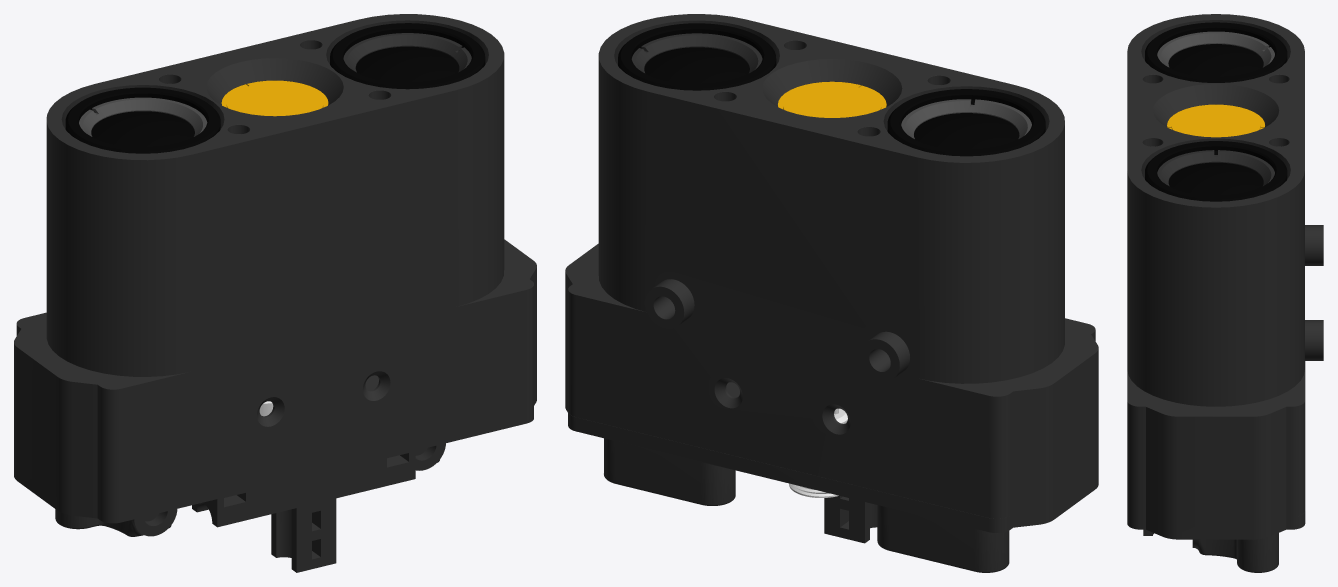
File: FFS_Camera.obj
3 renders of one model, left to right at view 1: azimuth 30°, elevation 25°; view 2: azimuth 150°, elevation 25°; view 3: azimuth 270°, elevation 25°, orthographic. The views are drawn at different scales.
Parts seen in each view (by area): view 1: mesh5, mesh9, mesh0, mesh3, mesh6, mesh8, mesh2, mesh7, mesh1; view 2: mesh5, mesh0, mesh3, mesh6, mesh1, mesh4, mesh8, mesh7, mesh2, mesh9; view 3: mesh5, mesh6, mesh3, mesh8, mesh0, mesh4, mesh2, mesh7.
Part boxes in pixels (<box>): mesh5: <box>14,14,536,509</box>; mesh9: <box>192,450,415,572</box>; mesh0: <box>14,375,536,523</box>; mesh3: <box>65,87,220,153</box>; mesh6: <box>330,23,485,89</box>; mesh8: <box>221,80,328,116</box>; mesh2: <box>79,97,207,136</box>; mesh7: <box>343,33,471,72</box>; mesh1: <box>55,509,177,536</box>; mesh5: <box>565,14,1098,518</box>; mesh0: <box>565,382,1098,532</box>; mesh3: <box>887,89,1045,156</box>; mesh6: <box>618,23,776,90</box>; mesh1: <box>877,505,1009,572</box>; mesh4: <box>604,438,735,505</box>; mesh8: <box>778,81,886,117</box>; mesh7: <box>631,33,762,73</box>; mesh2: <box>901,99,1031,138</box>; mesh9: <box>824,495,877,543</box>; mesh5: <box>1127,14,1323,526</box>; mesh6: <box>1145,141,1287,201</box>; mesh3: <box>1145,22,1287,82</box>; mesh8: <box>1167,104,1264,137</box>; mesh0: <box>1127,361,1305,539</box>; mesh4: <box>1192,533,1278,572</box>; mesh2: <box>1157,31,1274,67</box>; mesh7: <box>1157,150,1274,186</box>.
Bounding box in the file's own units: 0.108 × 0.0981 × 0.042.
